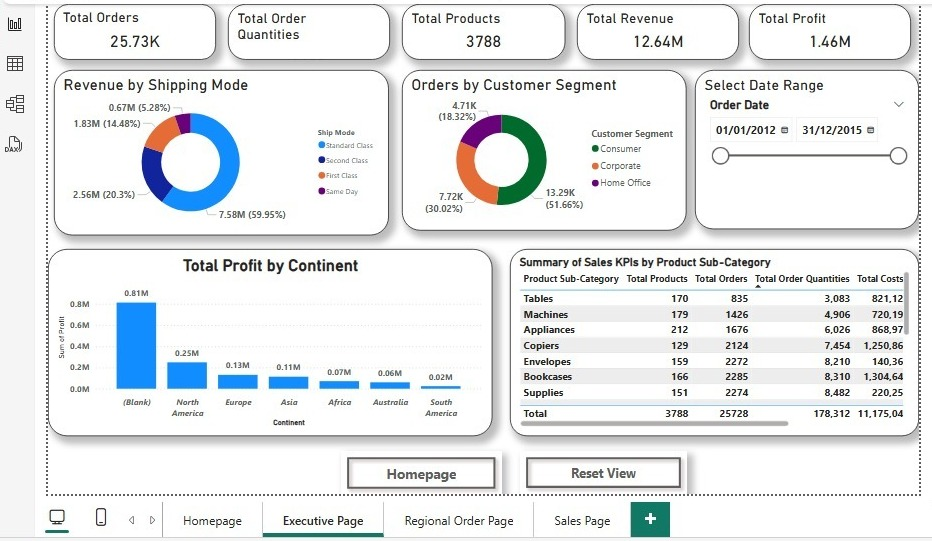

What the dashboard file says about the page in this screenshot:
{"tool":"powerbi","page":{"name":"Executive Page","canvas":[1280,720],"ordinal":1},"visuals":[{"type":"card","title":"Total Orders ","fields":{"Values":["Count(sales.Order ID)"]},"box":[8.9,0,237.8,82.2],"z":0},{"type":"card","title":"Total Order Quantities\n","fields":{"Values":["Sum(sales.Quantity)"]},"box":[264.6,0,237.8,82.2],"z":1000},{"type":"card","title":"Total Products","fields":{"Values":["Count(sales.Product ID)"]},"box":[520.2,0,239.6,82.2],"z":2000},{"type":"card","title":"Total Revenue","fields":{"Values":["Sum(sales.Revenue)"]},"box":[777.7,0,237.8,82.2],"z":3000},{"type":"card","title":"Total Profit","fields":{"Values":["Sum(sales.Profit)"]},"box":[1029.7,0,237.8,82.2],"z":4000},{"type":"donutChart","title":"Revenue by Shipping Mode","fields":{"Category":["sales.Ship Mode"],"Y":["Sum(sales.Revenue)"]},"box":[8.9,96.5,491.6,243.1],"z":5000},{"type":"donutChart","title":"Orders by Customer Segment","fields":{"Category":["sales.Customer Segment"],"Y":["Count(sales.Order ID)"]},"box":[520.2,96.5,418.3,236],"z":6000},{"type":"clusteredColumnChart","title":"Total Profit by Continent","fields":{"Category":["Region.Continent"],"Y":["Sum(sales.Profit)"]},"box":[0,359.3,652.5,275.3],"z":7000},{"type":"tableEx","title":"Summary of Sales KPIs by Product Sub-Category","fields":{"Values":["Product.Sub-Category","sales.Product ID","sales.Order ID","Sum(sales.Quantity)","Sum(sales.Cost)","Sum(sales.Profit)","Sum(sales.Revenue)"]},"box":[679.3,359.3,600.7,275.3],"z":8000},{"type":"slicer","title":"Select Date Range","fields":{"Values":["Date.Order Date"]},"box":[951.1,96.5,328.9,234.2],"z":9000},{"type":"actionButton","box":[430.8,656.1,236,64.4],"z":10000},{"type":"actionButton","box":[693.6,656.8,245.4,63.2],"z":11000}]}

Visuals, with their boxes on the page's 1280x720 design canvas (x1, y1, x2, y2). These are canvas units, not pixel positions in the 932x541 screenshot, which may show the page scaled, cropped or inside an application window:
"Total Orders " card: 9/0/247/82
"Total Order Quantities
" card: 265/0/502/82
"Total Products" card: 520/0/760/82
"Total Revenue" card: 778/0/1016/82
"Total Profit" card: 1030/0/1268/82
"Revenue by Shipping Mode" donutChart: 9/96/500/340
"Orders by Customer Segment" donutChart: 520/96/938/332
"Total Profit by Continent" clusteredColumnChart: 0/359/652/635
"Summary of Sales KPIs by Product Sub-Category" tableEx: 679/359/1280/635
"Select Date Range" slicer: 951/96/1280/331
actionButton: 431/656/667/720
actionButton: 694/657/939/720
